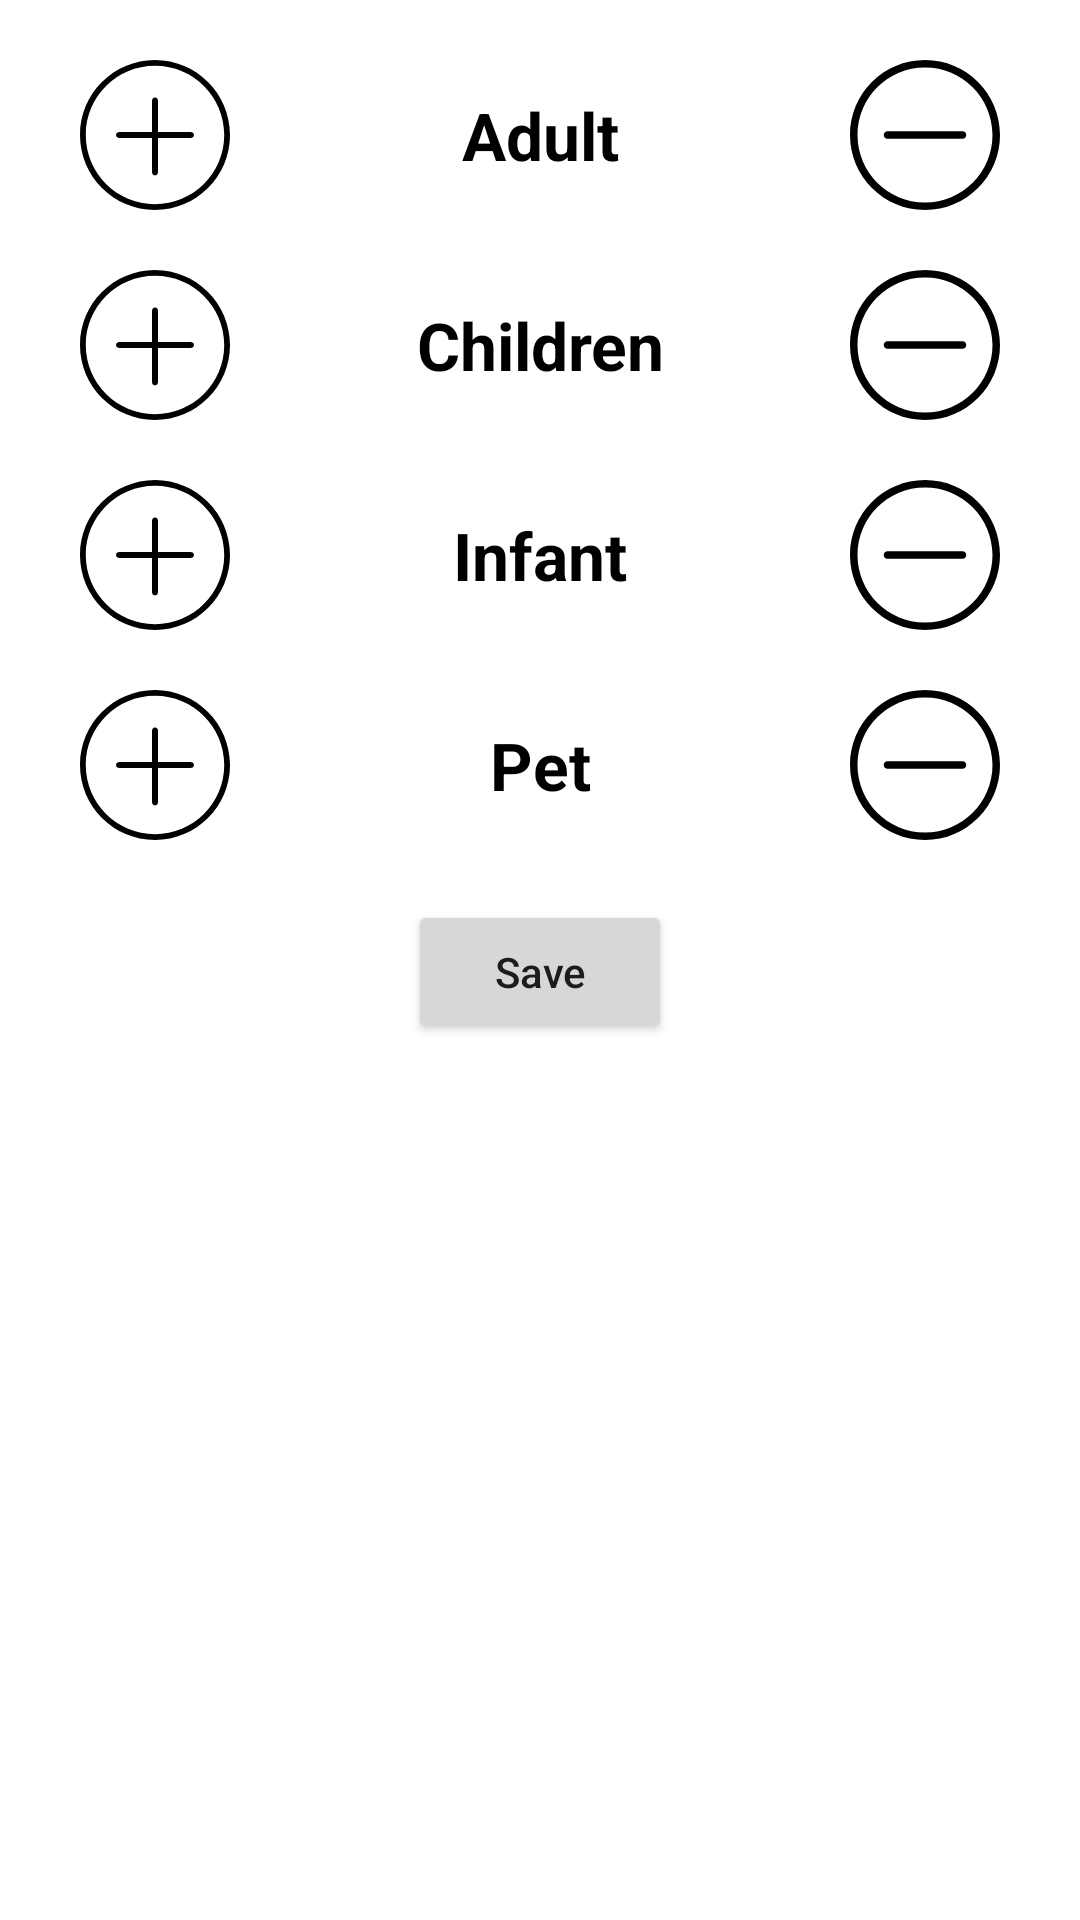

Icon bounding boxes for this 1080w x 1920h phone screenshot, format bbox=[x1, y1, x2, y2]:
minus: bbox=[850, 60, 1000, 210], bbox=[850, 270, 1000, 420], bbox=[850, 480, 1000, 630], bbox=[850, 690, 1000, 840]
plus: bbox=[80, 60, 230, 210], bbox=[80, 270, 230, 420], bbox=[80, 480, 230, 630], bbox=[80, 690, 230, 840]
